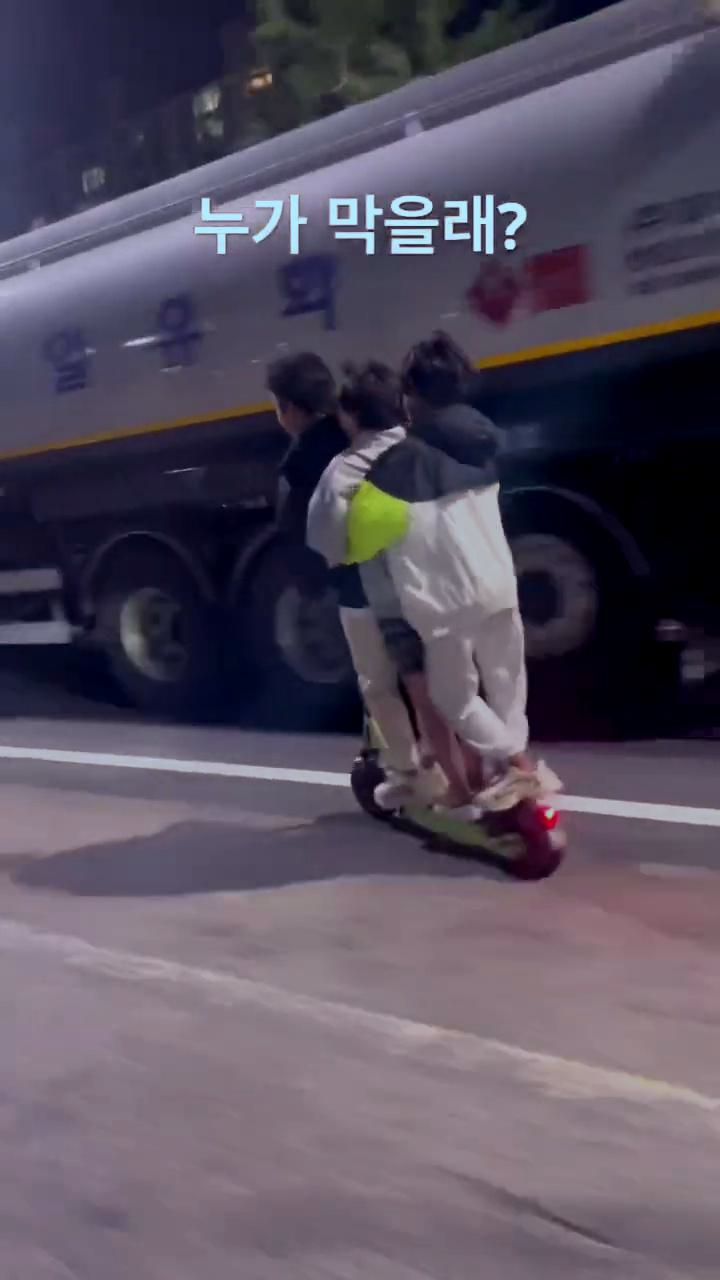multiple: (255, 327, 574, 891)
